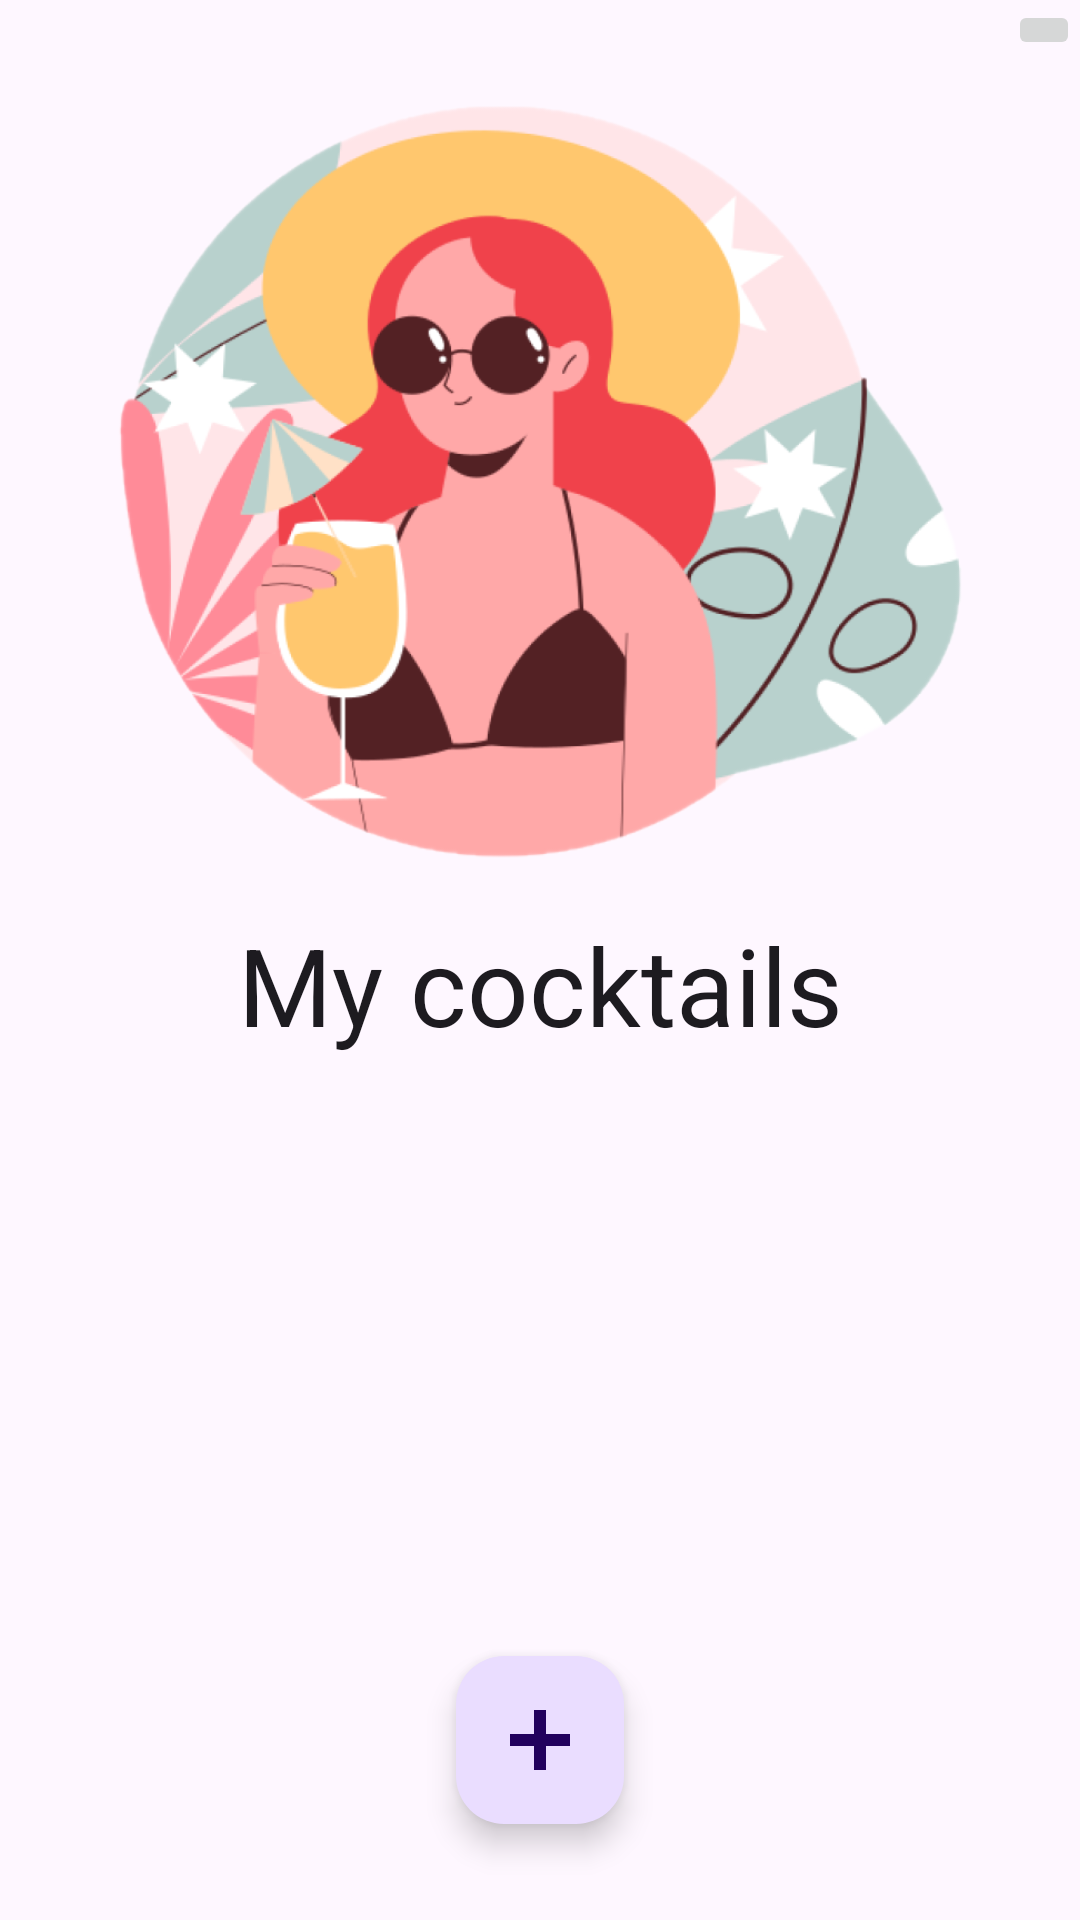

Named icons in this screenshot (1080*1920) and their centers, [x,y]:
plus sign: [540,1740]
